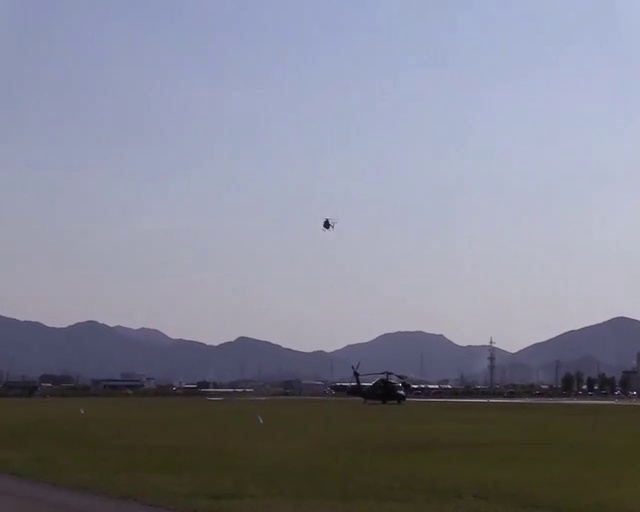HELICOPTER: (323, 217, 338, 231)
